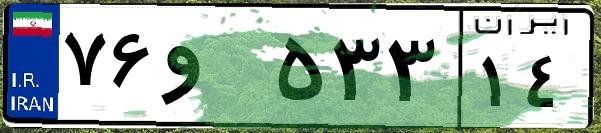1: (475, 38, 525, 113)
3: (385, 28, 445, 110), (330, 28, 385, 110)
4: (525, 38, 570, 115)
5: (270, 28, 330, 110)
6: (110, 28, 158, 98)
7: (57, 26, 110, 100)
و: (158, 20, 270, 120)
